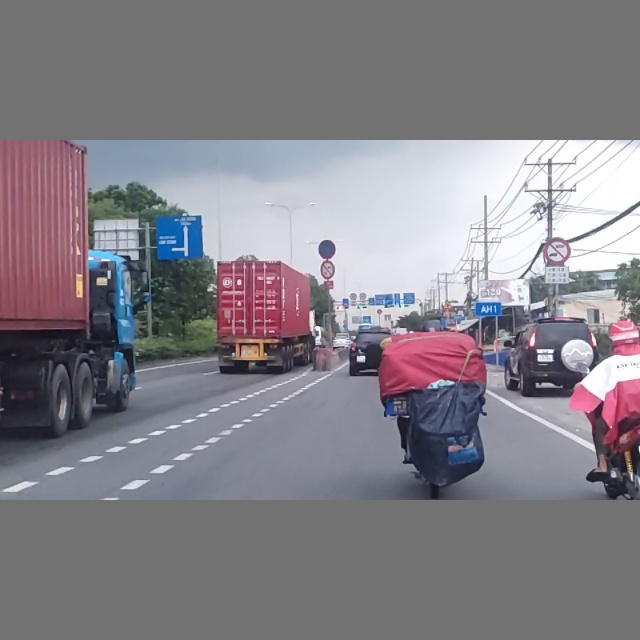P.107: (544, 239, 571, 265)
P.111: (321, 260, 335, 279)
P.130: (317, 239, 337, 259)
